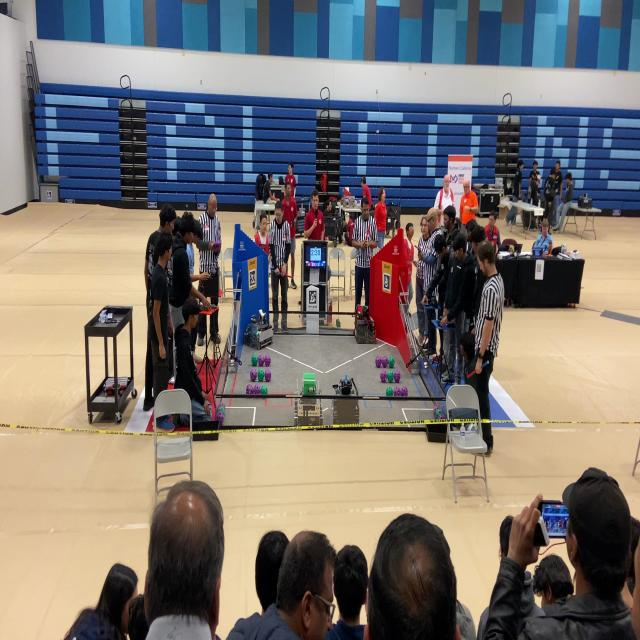artifact_green: (434, 407, 446, 421), (216, 410, 225, 426), (265, 369, 271, 382), (386, 386, 393, 397), (401, 386, 408, 397), (258, 369, 264, 381), (252, 354, 258, 366), (380, 371, 386, 383), (382, 356, 388, 368), (387, 371, 393, 382), (253, 385, 260, 394), (388, 357, 394, 367), (261, 385, 267, 394), (219, 404, 225, 413), (394, 387, 400, 396), (336, 319, 340, 327)
artifact_purple: (216, 410, 224, 425), (433, 405, 441, 419), (250, 369, 257, 381), (265, 369, 271, 382), (258, 369, 264, 381), (258, 355, 264, 367), (394, 370, 400, 382), (246, 384, 253, 394), (218, 404, 225, 414), (380, 371, 386, 382), (402, 386, 408, 397), (265, 355, 271, 366), (387, 371, 393, 382), (382, 356, 388, 367), (375, 356, 381, 367), (252, 354, 257, 366), (386, 387, 392, 396), (254, 385, 260, 394), (219, 403, 225, 412), (394, 387, 400, 396), (389, 357, 394, 367)
